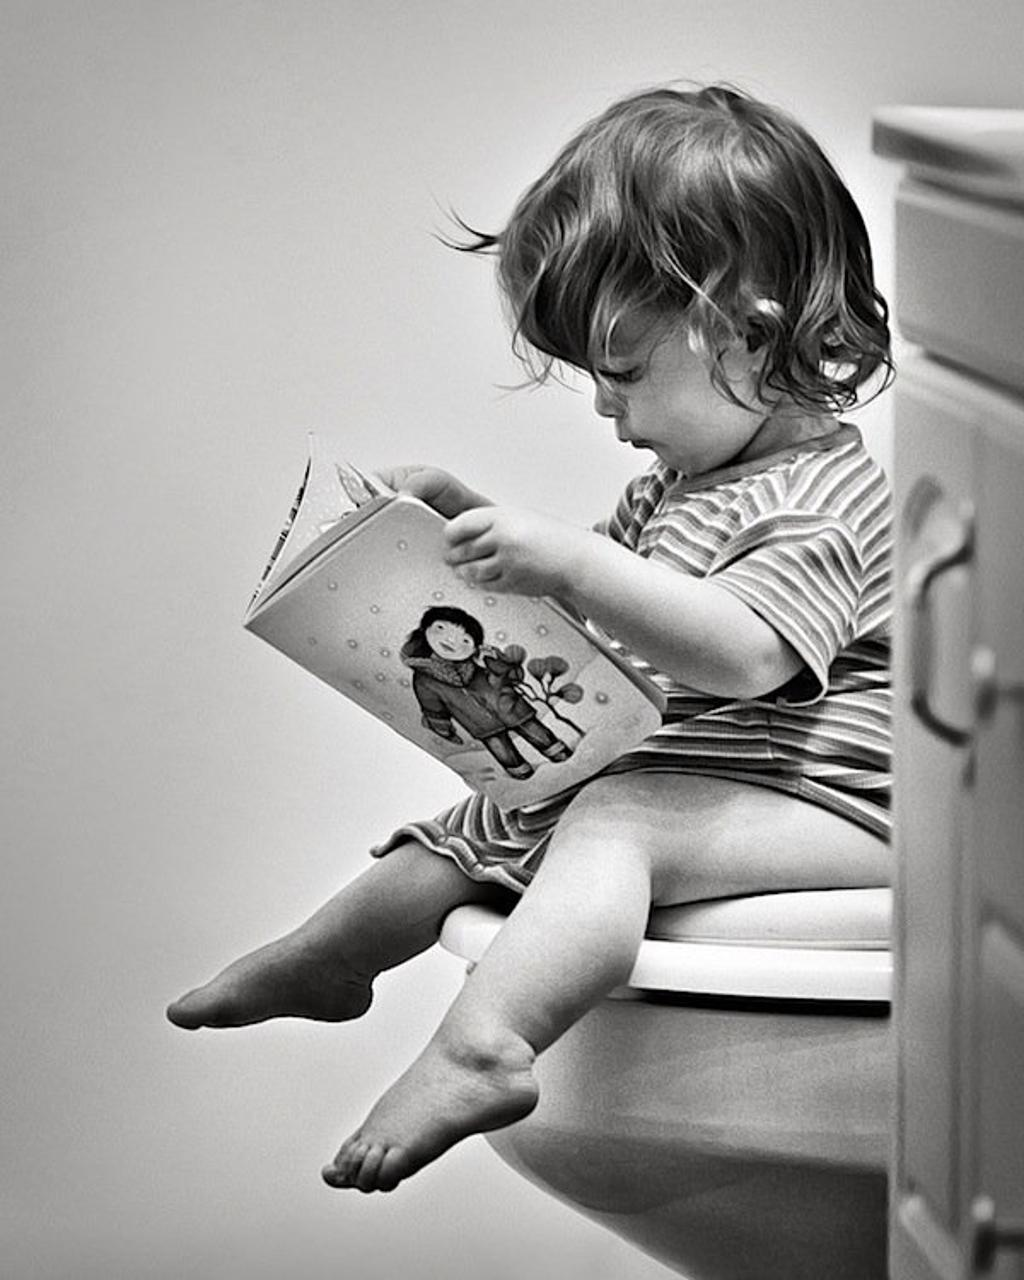face: (542, 255, 747, 472)
